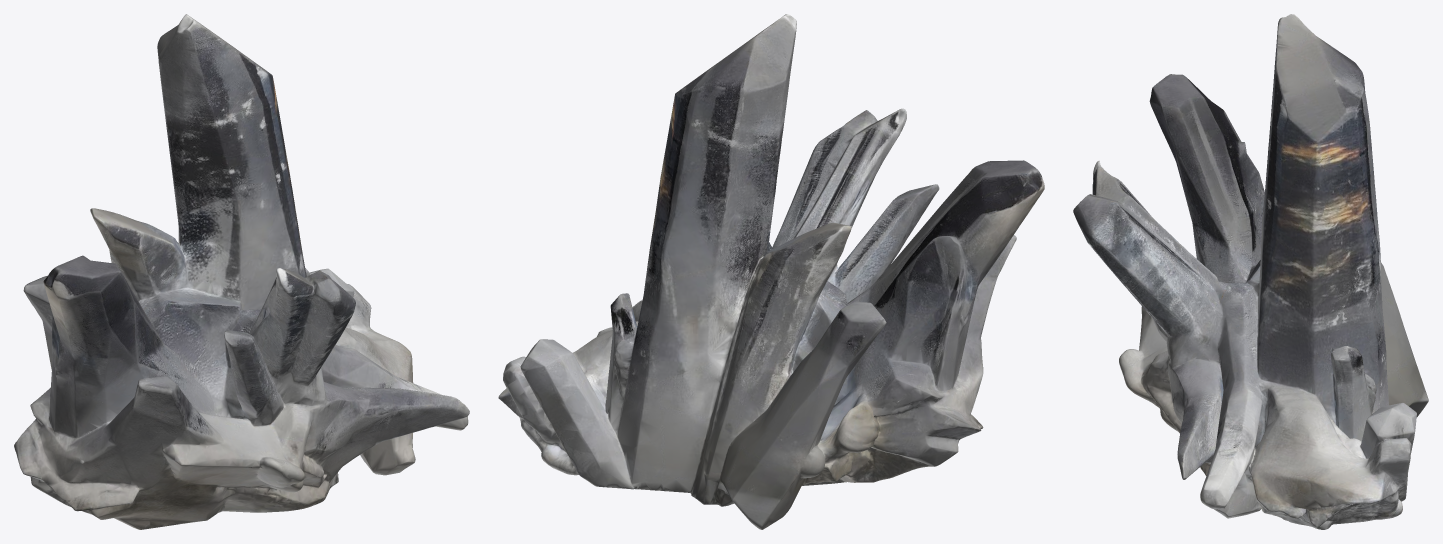
The model's file is crystal.glb.
3 renders of one model, left to right at view 1: azimuth 30°, elevation 25°; view 2: azimuth 150°, elevation 25°; view 3: azimuth 270°, elevation 25°, orthographic. The views are drawn at different scales.
Bounding box in the file's own units: 1.89 × 1.9 × 1.43.
Materials: 1 (1 with a texture image).
